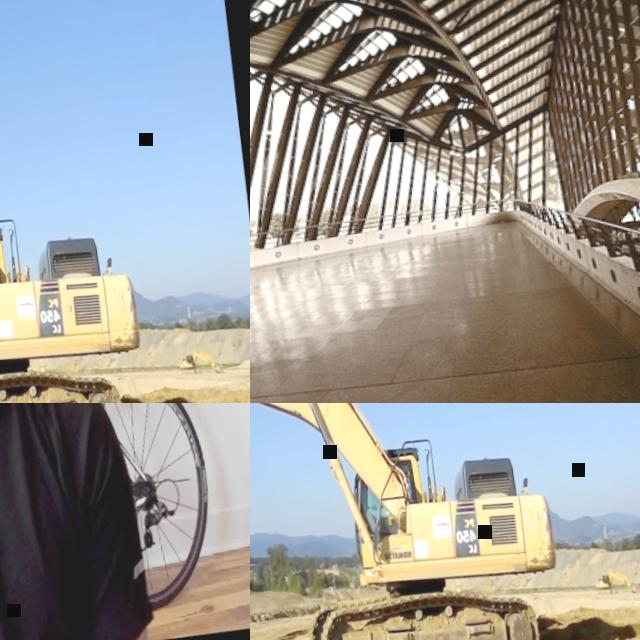machinery: (250, 403, 573, 640), (0, 23, 157, 403), (180, 348, 226, 378), (596, 567, 640, 598)
no_vest: (0, 403, 130, 640)
person: (0, 403, 164, 640), (188, 356, 192, 362), (604, 576, 608, 582)
